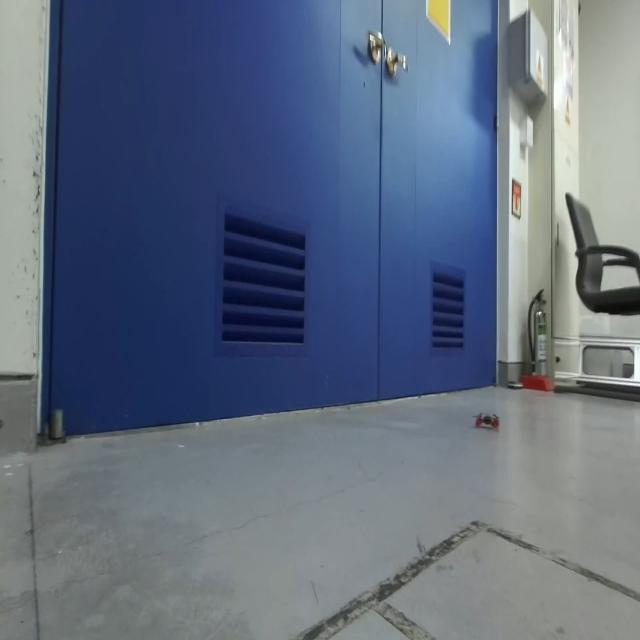crazyflie: (472, 405, 500, 434)
